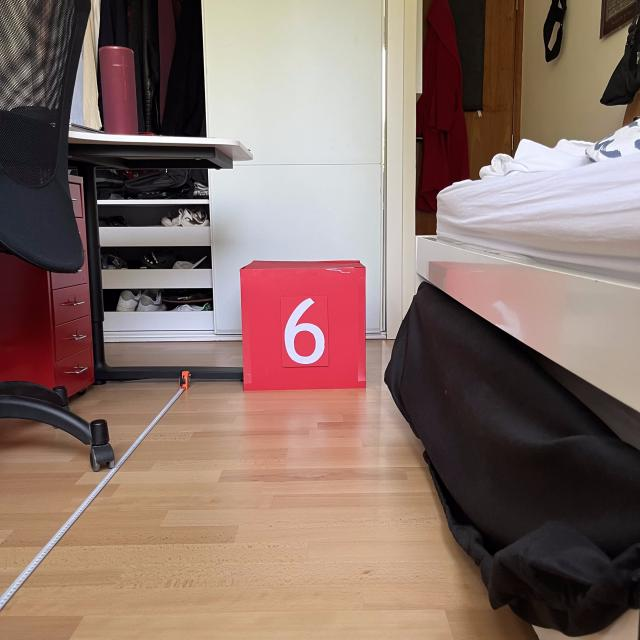box: (236, 255, 370, 392)
